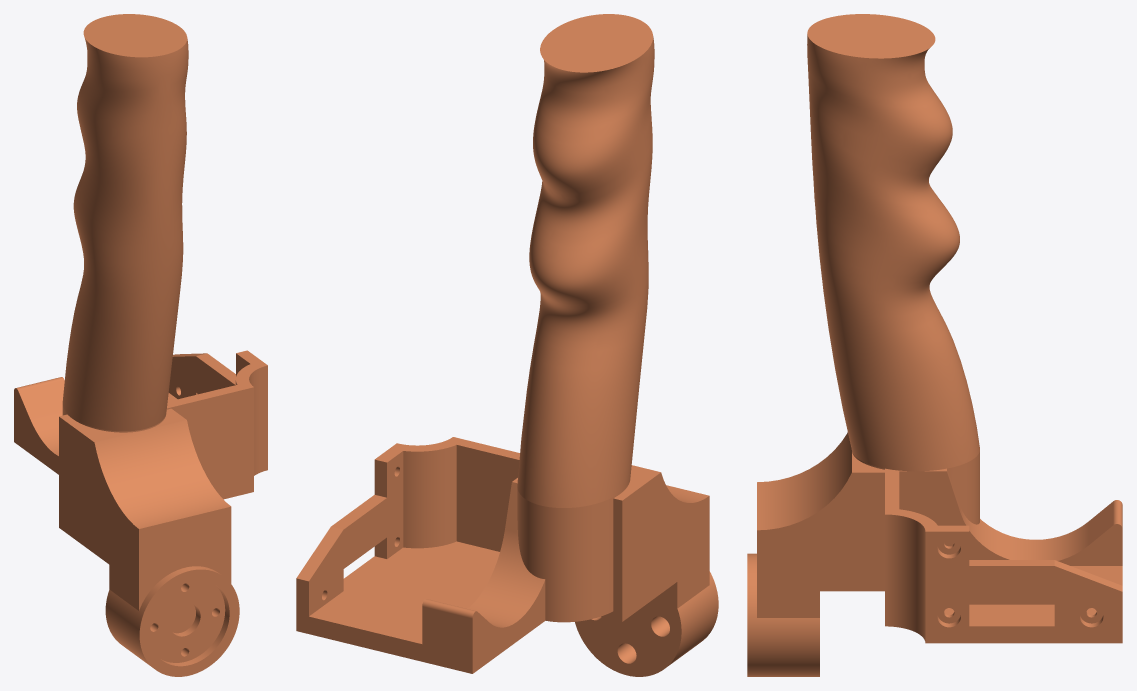
The model's file is Right Arm - right holder.gltf.
3 views of the same model, side by side, from view 1: azimuth 30°, elevation 25°; view 2: azimuth 150°, elevation 25°; view 3: azimuth 270°, elevation 25° (orthographic). The views are drawn at different scales.
Visible parts, largest first — view 1: right holder; view 2: right holder; view 3: right holder.
Part boxes in pixels (<box>): right holder: <box>14,14,267,676</box>; right holder: <box>296,14,718,676</box>; right holder: <box>747,14,1122,676</box>.
Size of the model in its own units: 0.055 by 0.1487 by 0.079.
